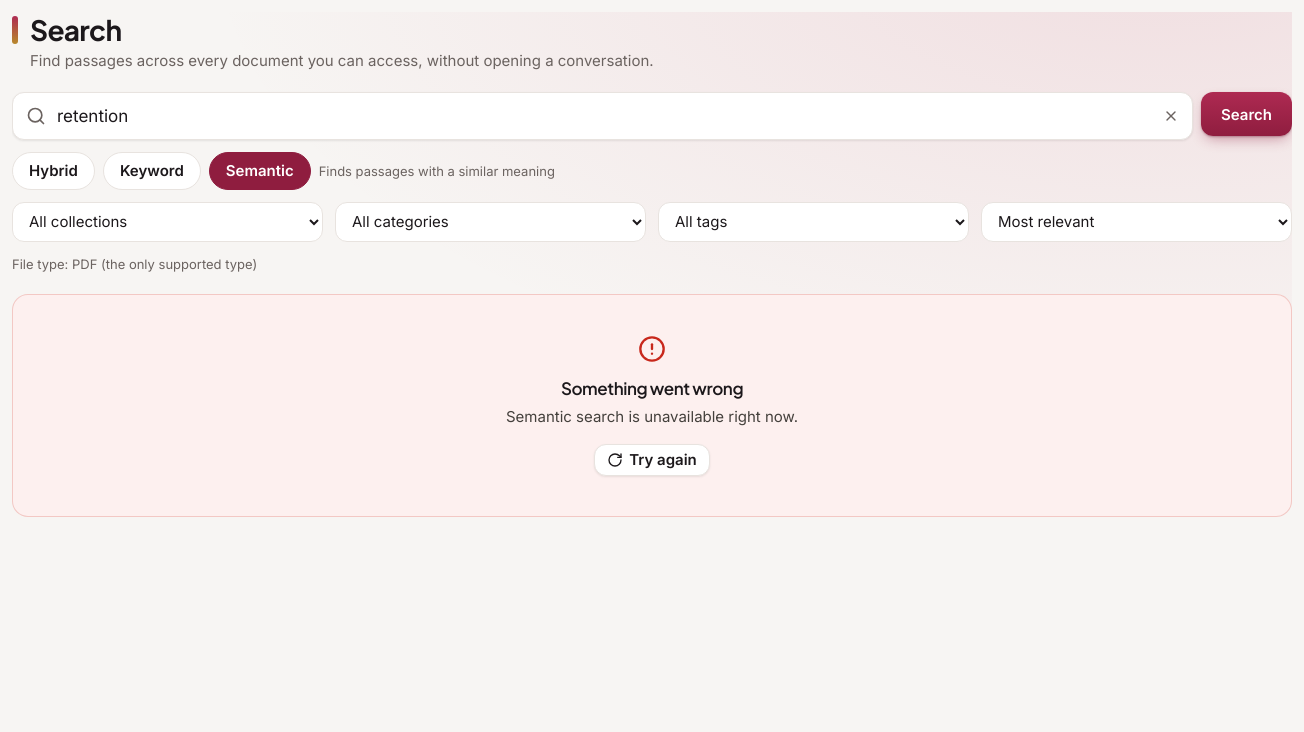
Search page › shows an error state and retries
Expected: the text "Semantic search is unavailable right now." is shown, [506,405,798,428]
Click the button "Try again": (652, 460) [594,444,710,476]
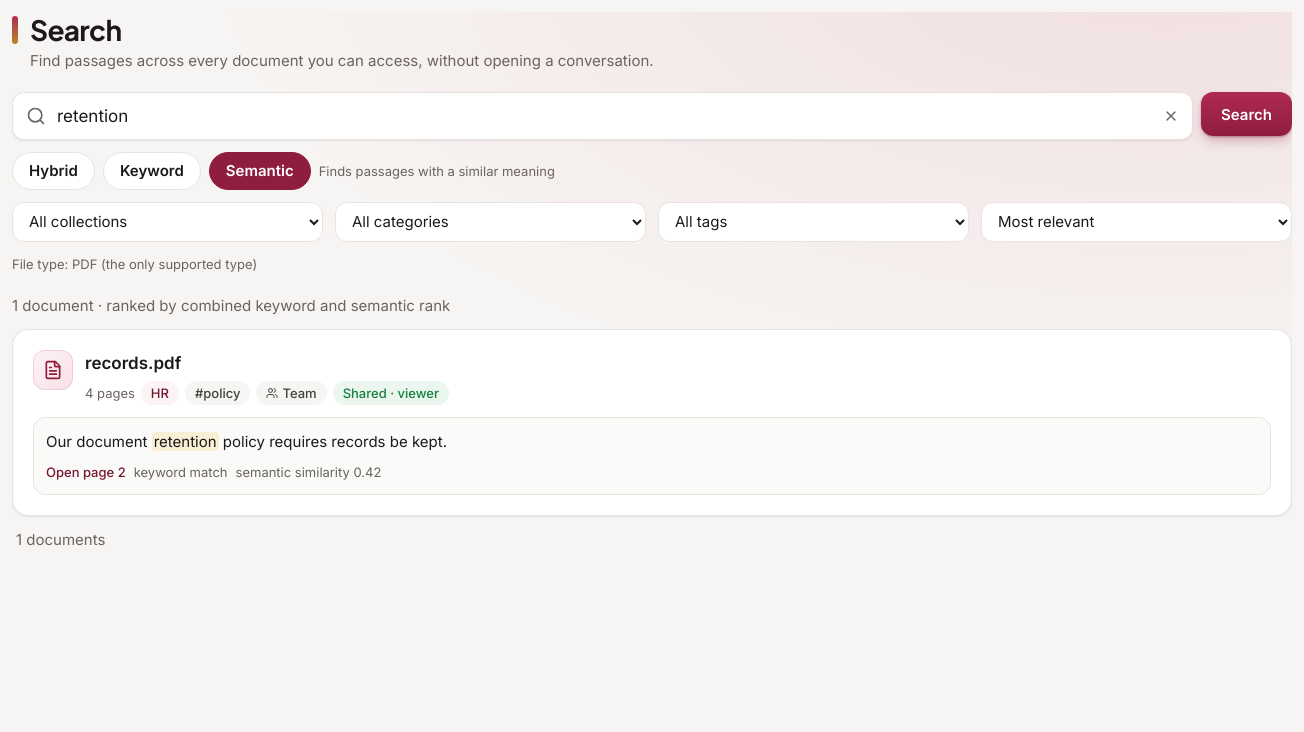
Expected: the list named "Search results" is shown, [12,329,1292,516]
